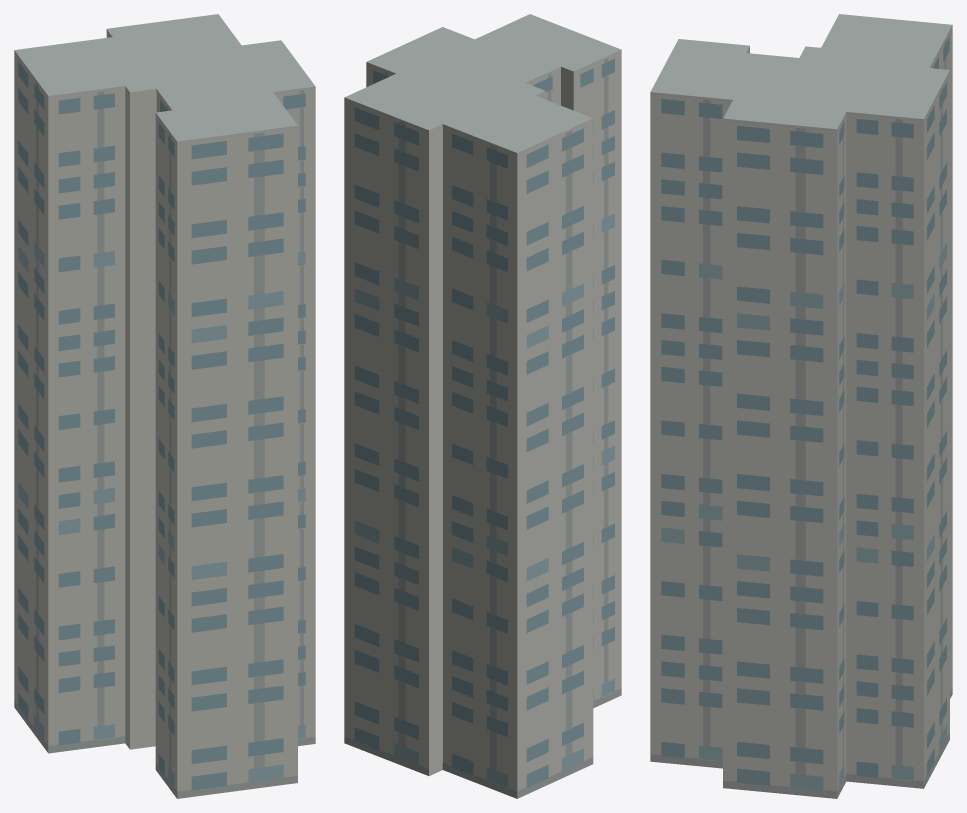
The model's file is residential-103c981d-955f-4711-afb2-6b5966b4c350.glb.
The picture shows the model from 3 angles, left to right: view 1: azimuth 30°, elevation 25°; view 2: azimuth 150°, elevation 25°; view 3: azimuth 270°, elevation 25°; orthographic projection. The views are drawn at different scales.
Parts seen in each view (by area): view 1: residential-103c981d-955f-4711-afb2-6b5966b4c350.tmp; view 2: residential-103c981d-955f-4711-afb2-6b5966b4c350.tmp; view 3: residential-103c981d-955f-4711-afb2-6b5966b4c350.tmp.
Part boxes in pixels (x1,y1,x2,y2): residential-103c981d-955f-4711-afb2-6b5966b4c350.tmp: (14, 14, 315, 798); residential-103c981d-955f-4711-afb2-6b5966b4c350.tmp: (344, 14, 621, 798); residential-103c981d-955f-4711-afb2-6b5966b4c350.tmp: (650, 14, 952, 798).
Bounding box in the file's own units: 25.13 × 68 × 27.82.
